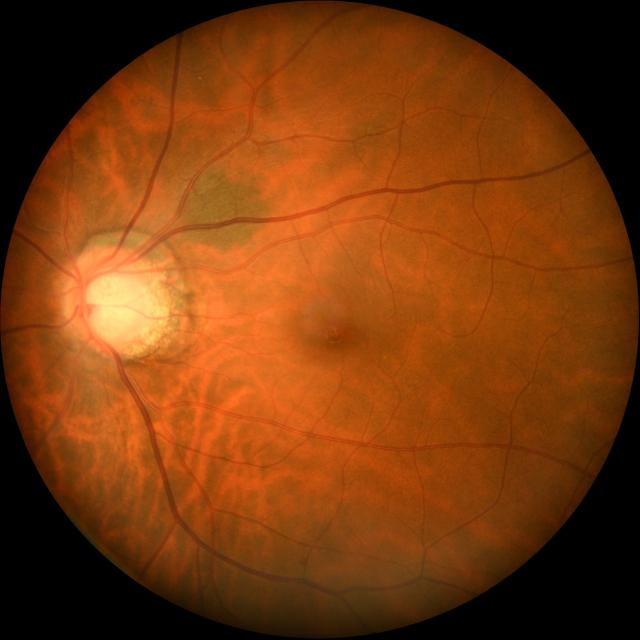OC: (84, 268, 148, 342)
OD: (62, 246, 156, 350)
